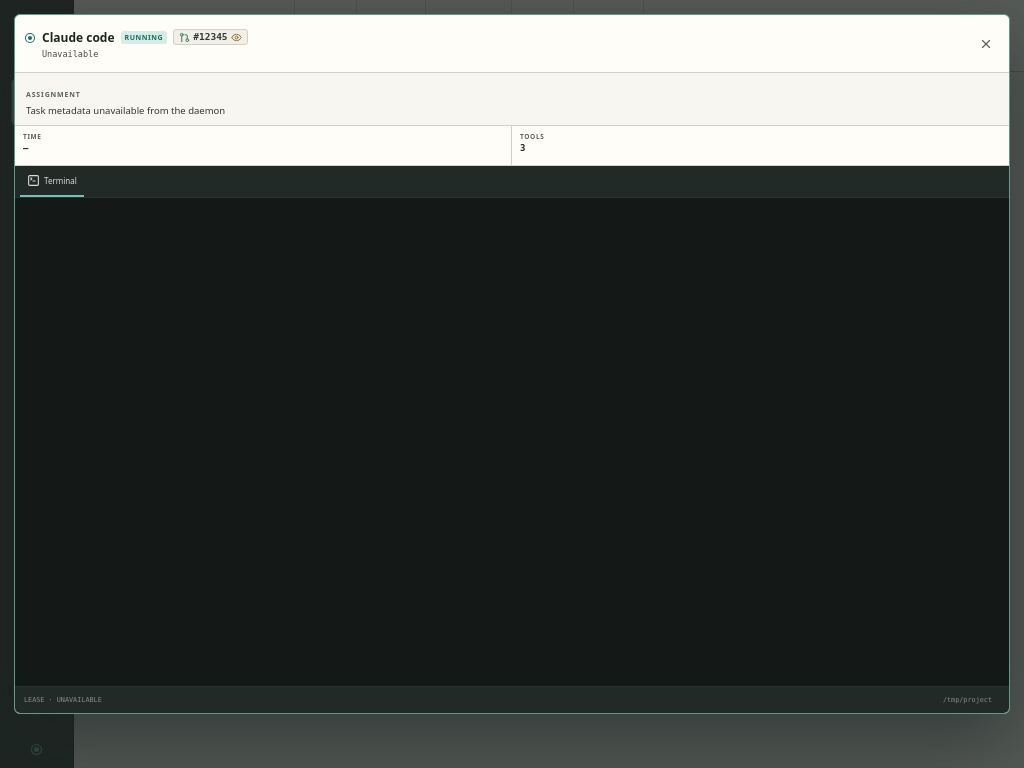
Test: PRD #1401 — the in-app pull request browser › opens over the agent's screen from the badge
Click the button with test id "pr-badge-7": (210,37) [173,29,248,45]
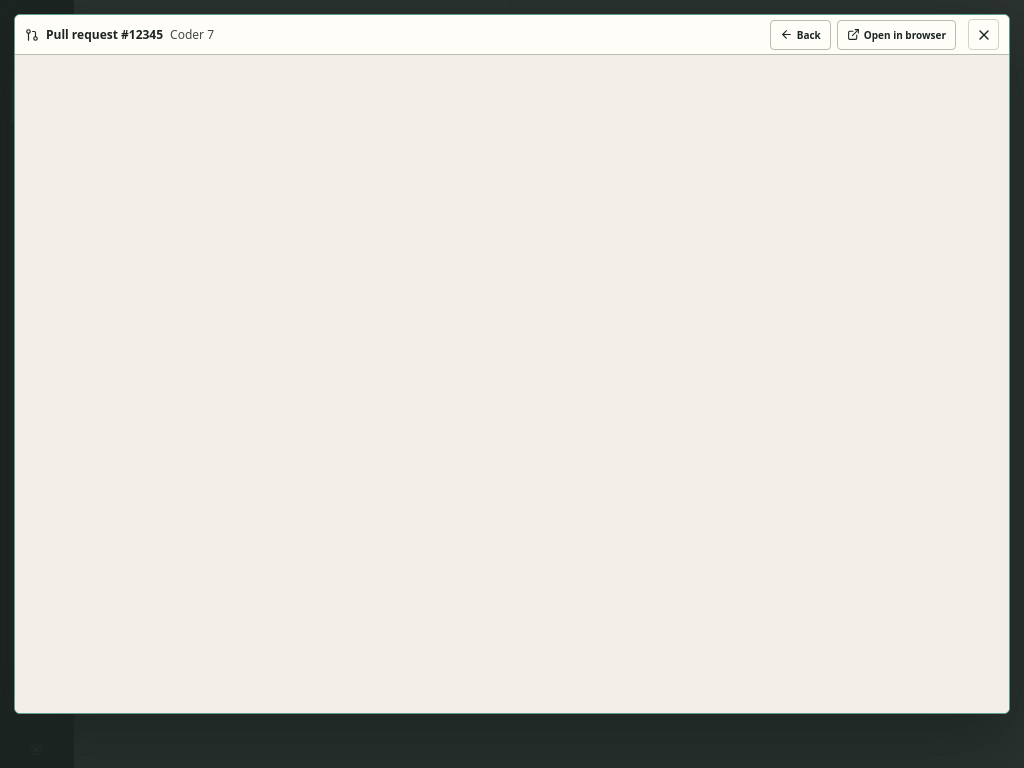
Check: the button "Back" is shown, box [770,20,831,50]
Check: the button "Open in browser" is shown, box [837,20,956,50]
Check: the button named "Close pull request" is shown, box [968,19,999,50]
